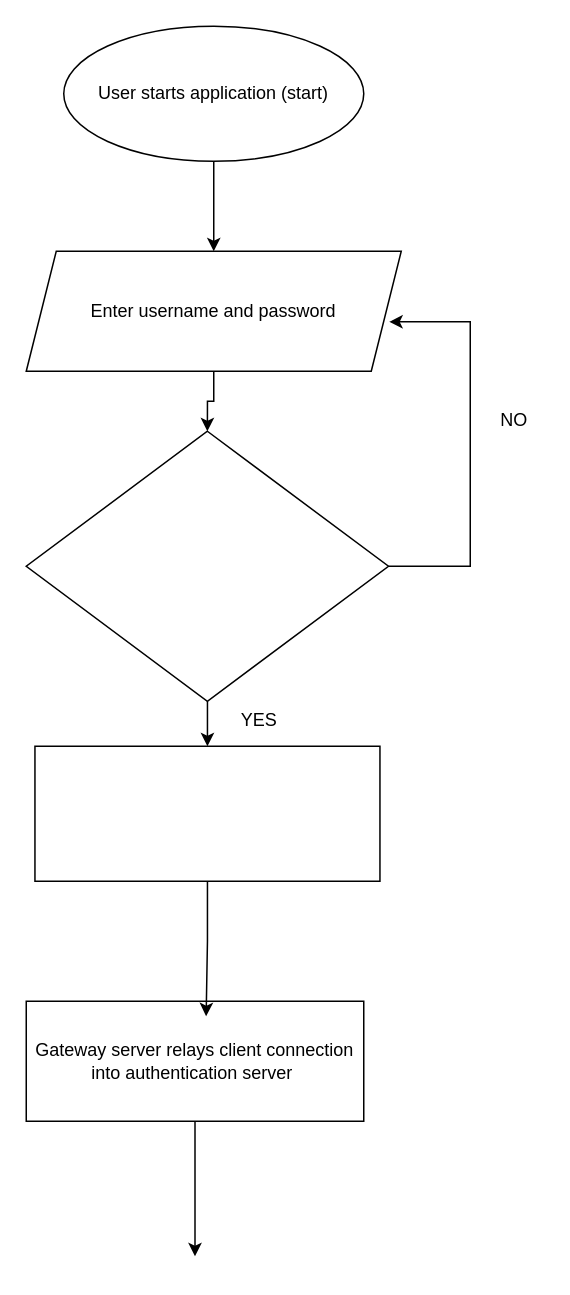
This 570x1295 diagram has some shape labels left out. The centre of each missing label's shape, as x and y in pixels:
"Client connects to gateway server." goes at [206,813].
"Has both username and password been entered?" goes at [206,565].
